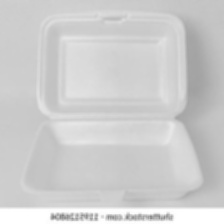foam_box: (13, 4, 209, 207)
